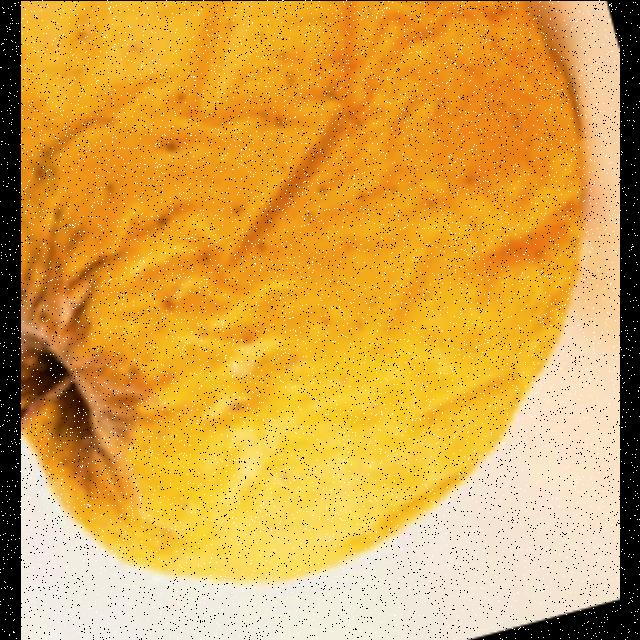Apel Tidak Segar: (21, 0, 590, 588)
